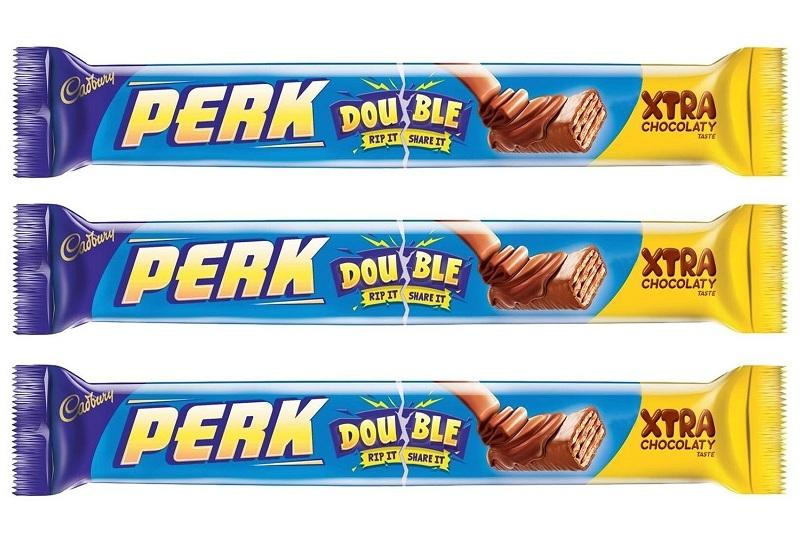Perk: (10, 359, 787, 502), (13, 42, 789, 182), (12, 202, 792, 341)
